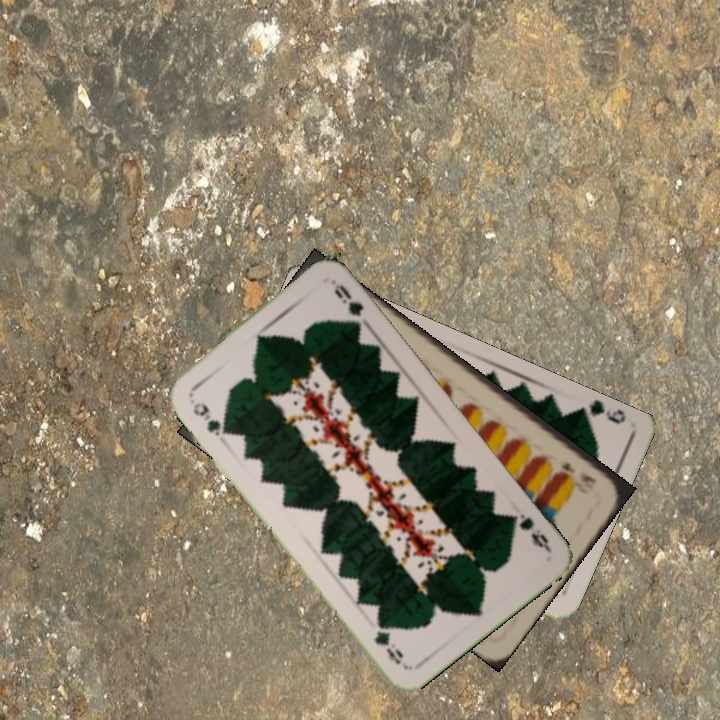E10: (556, 458, 600, 495)
G9: (503, 509, 553, 554), (188, 398, 232, 439), (571, 397, 629, 427)
